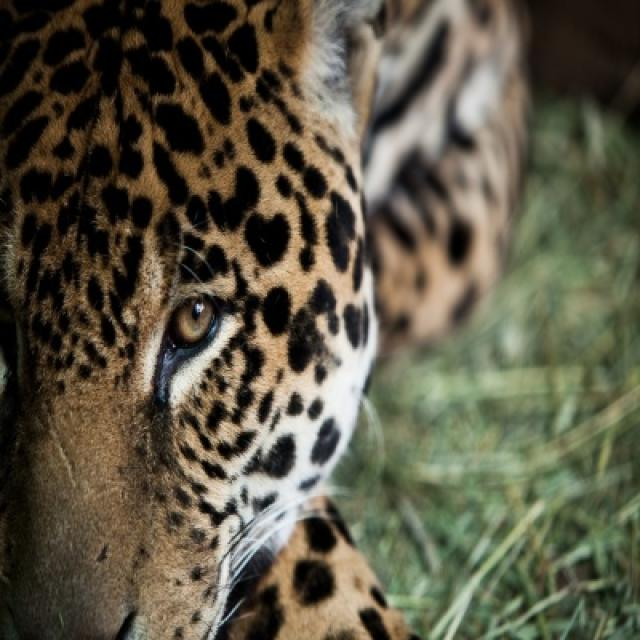Jaguar: (0, 0, 533, 638)
